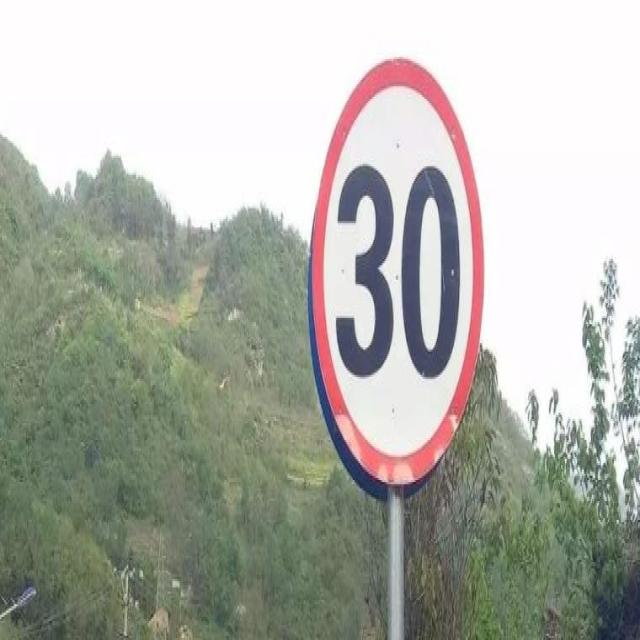speed limit 30: (310, 59, 484, 483)
